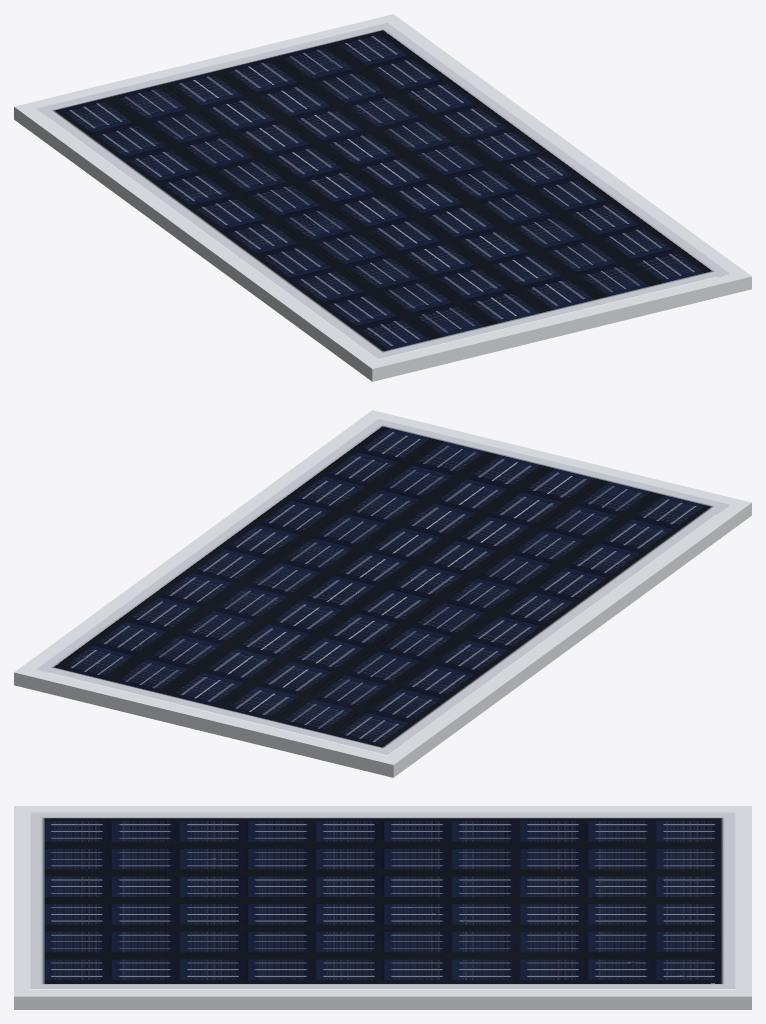
Rendered from panel.glb.
3 views of the same model, one above another, from view 1: azimuth 30°, elevation 25°; view 2: azimuth 150°, elevation 25°; view 3: azimuth 270°, elevation 25° (orthographic). The views are drawn at different scales.
Parts seen in each view (by area): view 1: FrontCells, FrameLeft, FrameBottom, FrameRight, FrameTop, Backsheet; view 2: FrontCells, FrameLeft, FrameTop, FrameRight, FrameBottom, Backsheet; view 3: FrontCells, FrameRight, FrameLeft, FrameTop, FrameBottom, Backsheet.
Part boxes in pixels (left/top/right/bottom): FrontCells: left=36, top=23, right=729, bottom=358; FrameLeft: left=22, top=109, right=377, bottom=375; FrameBottom: left=364, top=270, right=751, bottom=381; FrameRight: left=388, top=20, right=743, bottom=276; FrameTop: left=14, top=14, right=400, bottom=124; Backsheet: left=36, top=109, right=729, bottom=359; FrontCells: left=36, top=419, right=729, bottom=754; FrameLeft: left=388, top=505, right=743, bottom=771; FrameTop: left=14, top=666, right=401, bottom=777; FrameRight: left=22, top=416, right=377, bottom=672; FrameBottom: left=365, top=410, right=751, bottom=520; Backsheet: left=36, top=505, right=729, bottom=755; FrontCells: left=30, top=812, right=735, bottom=988; FrameRight: left=30, top=989, right=735, bottom=1009; FrameLeft: left=30, top=806, right=735, bottom=812; FrameTop: left=735, top=806, right=751, bottom=1009; FrameBottom: left=14, top=806, right=30, bottom=1009; Backsheet: left=31, top=989, right=734, bottom=989.
Size of the model in its own units: 1.08 by 0.0625 by 1.77.
Materials: 4 (1 with a texture image).
